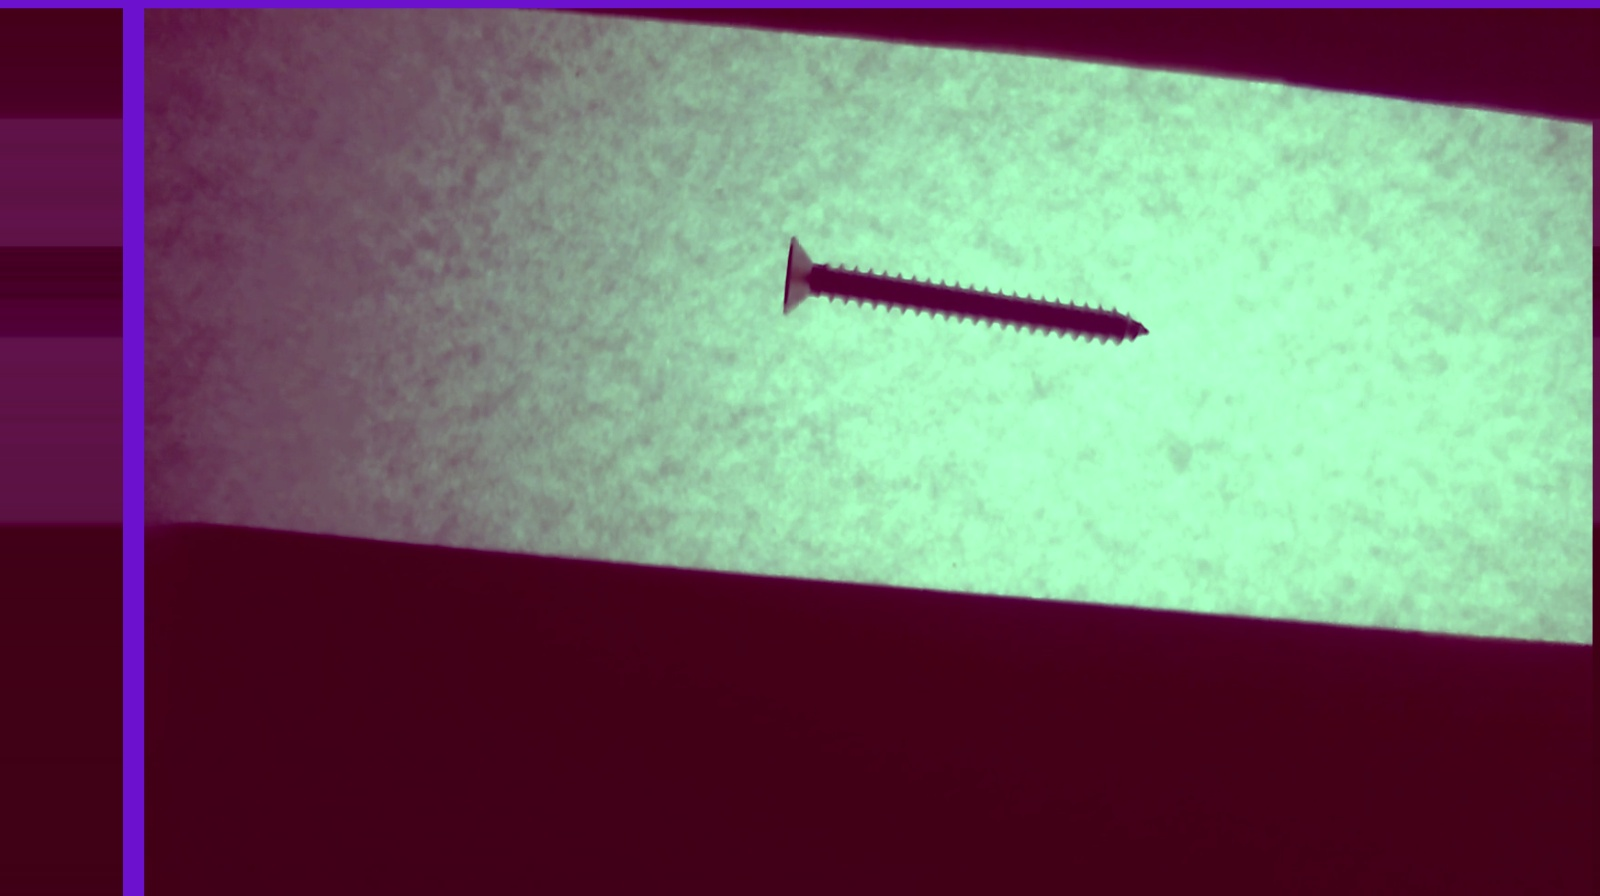S002: (766, 224, 1169, 363)
